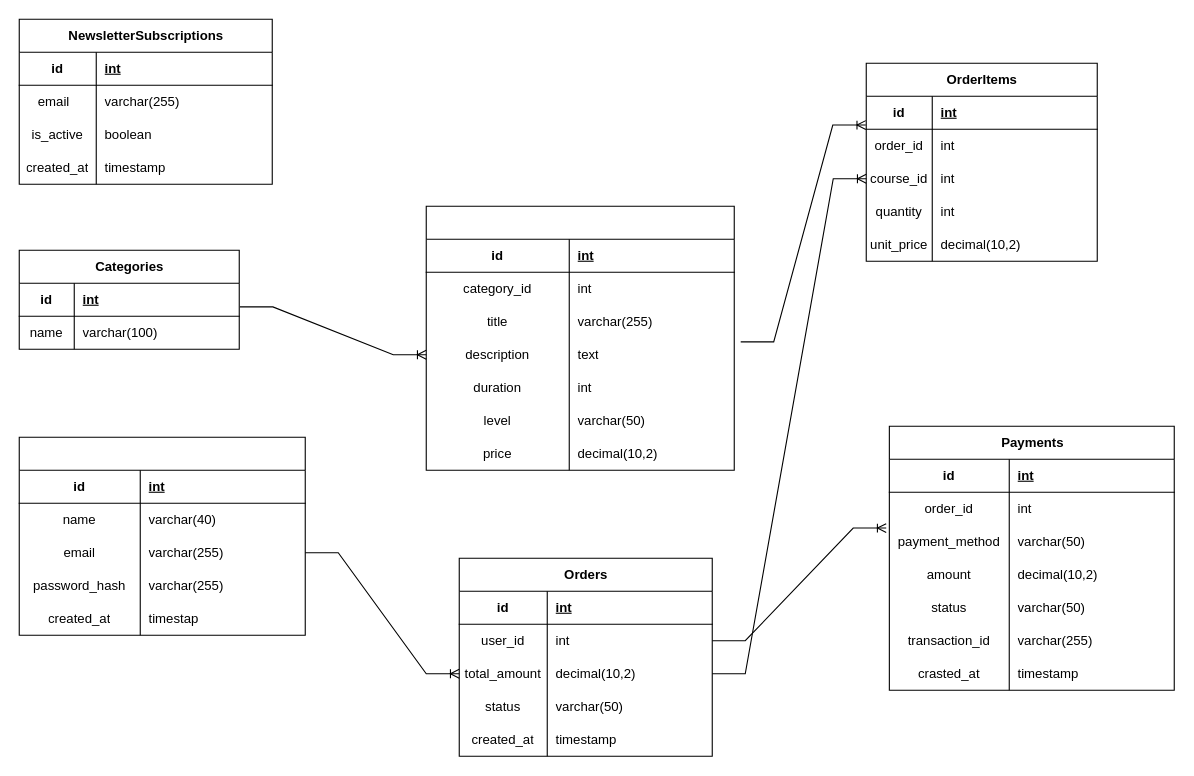
Image size: 1194x776. Some labels were removed from this diagram. The box of each missing label's shape, as (x1, y1, x2, y2) in pixels:
Courses: (425, 205, 734, 470)
Users: (18, 436, 305, 635)
